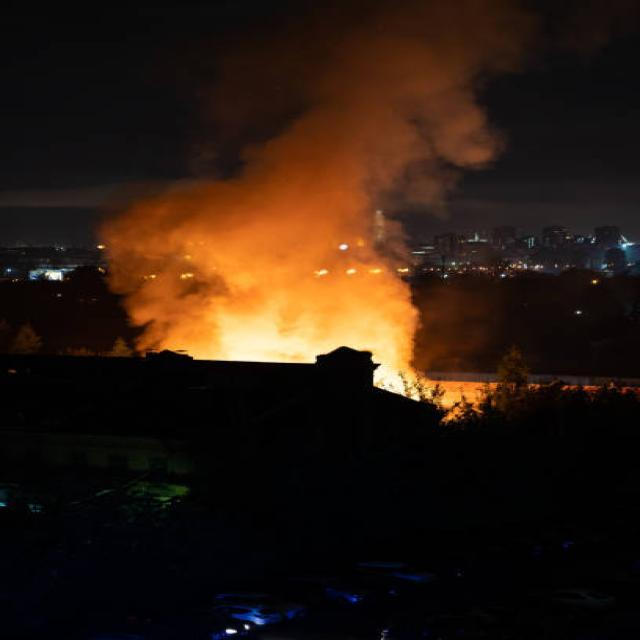Fire: (217, 307, 426, 401)
Smoke: (101, 0, 534, 354)
